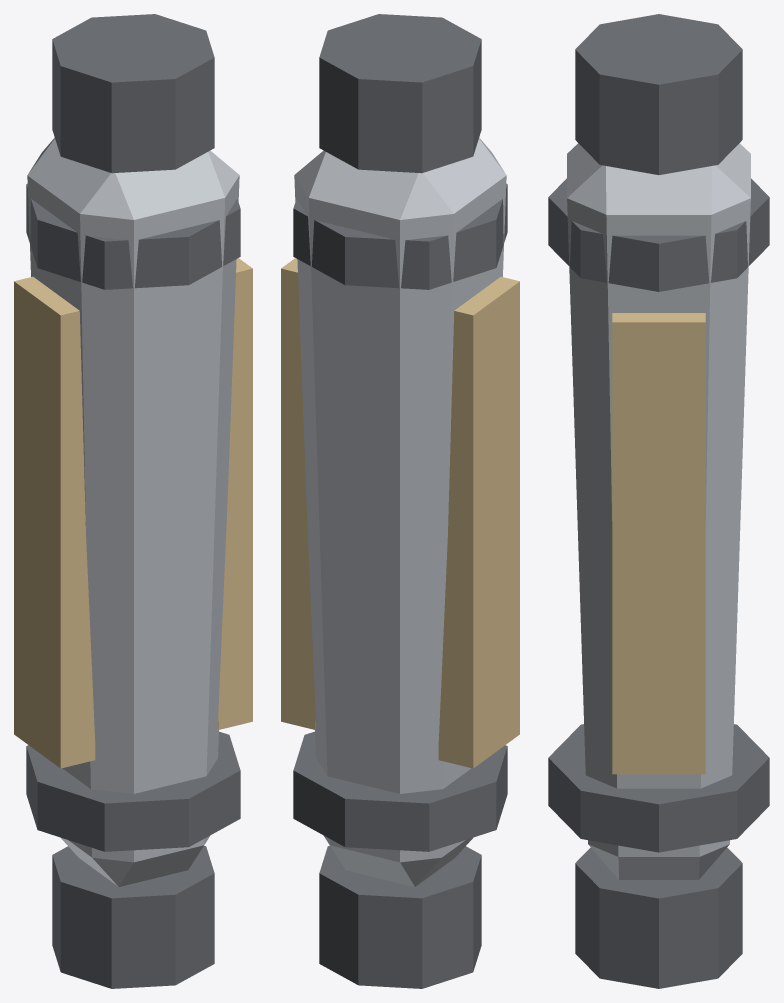
Rendered from bastion.arm_segment.glb.
3 renders of one model, left to right at view 1: azimuth 30°, elevation 25°; view 2: azimuth 150°, elevation 25°; view 3: azimuth 270°, elevation 25°, orthographic.
Size of the model in its own units: 0.666 by 3 by 0.665.
